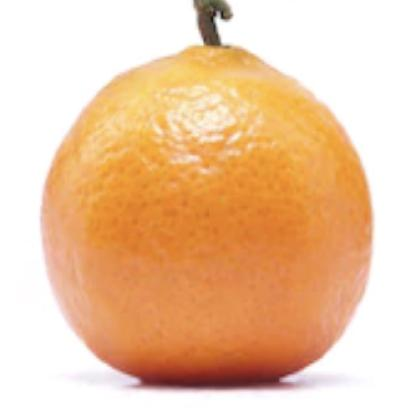fresh: (37, 43, 372, 384)
